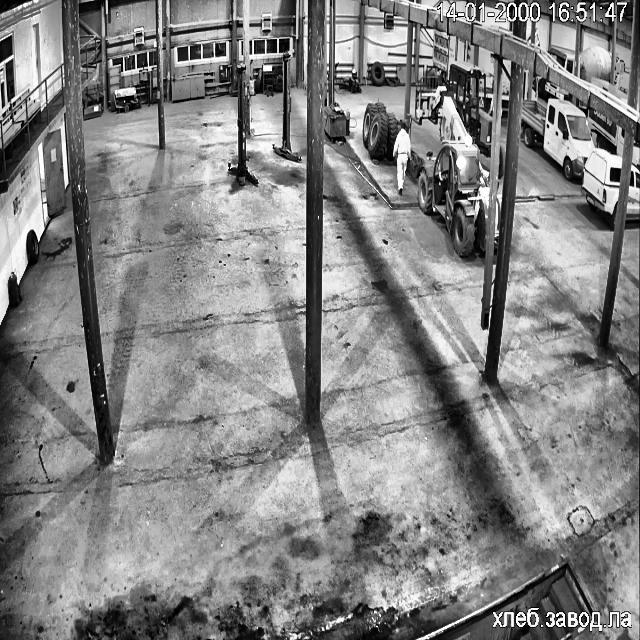class4: (393, 123, 410, 195)
class6: (418, 134, 488, 257), (448, 60, 500, 156), (494, 196, 500, 235), (498, 145, 504, 177), (488, 236, 497, 252)
class7: (521, 99, 592, 180), (581, 148, 621, 228), (588, 108, 624, 155), (592, 78, 626, 105), (626, 165, 640, 218), (548, 45, 574, 73), (535, 77, 566, 100), (632, 142, 640, 164), (636, 111, 638, 117)
tractor: (8, 272, 21, 306)
truck: (228, 65, 257, 185), (275, 52, 300, 161)
